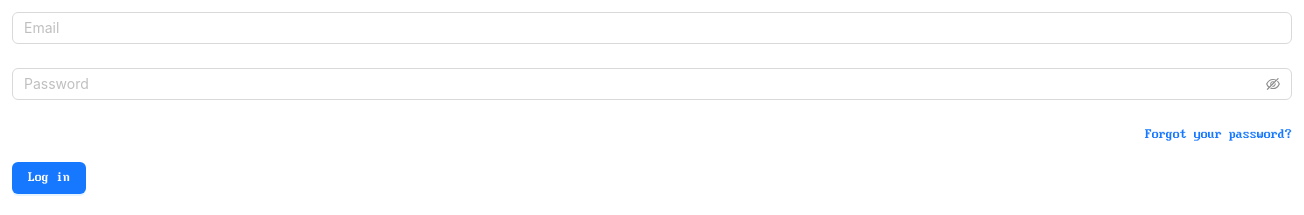
Test: SigninForm › does not submit an empty form and says what is missing
Click the button "Log in".
click(49, 178)  # box [12,162,86,194]
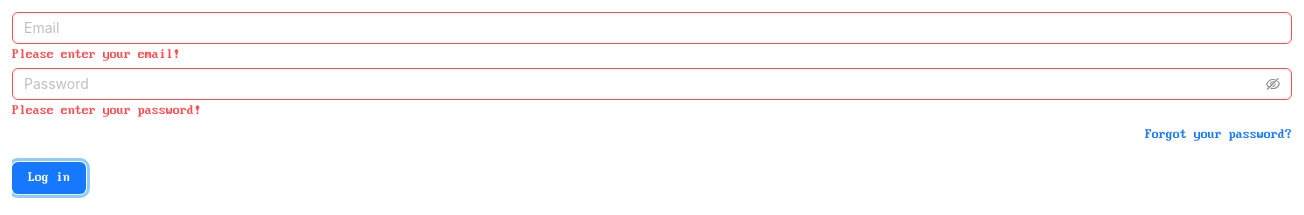
Expected: the text "Please enter your email!" is shown, [12,49,180,61]
